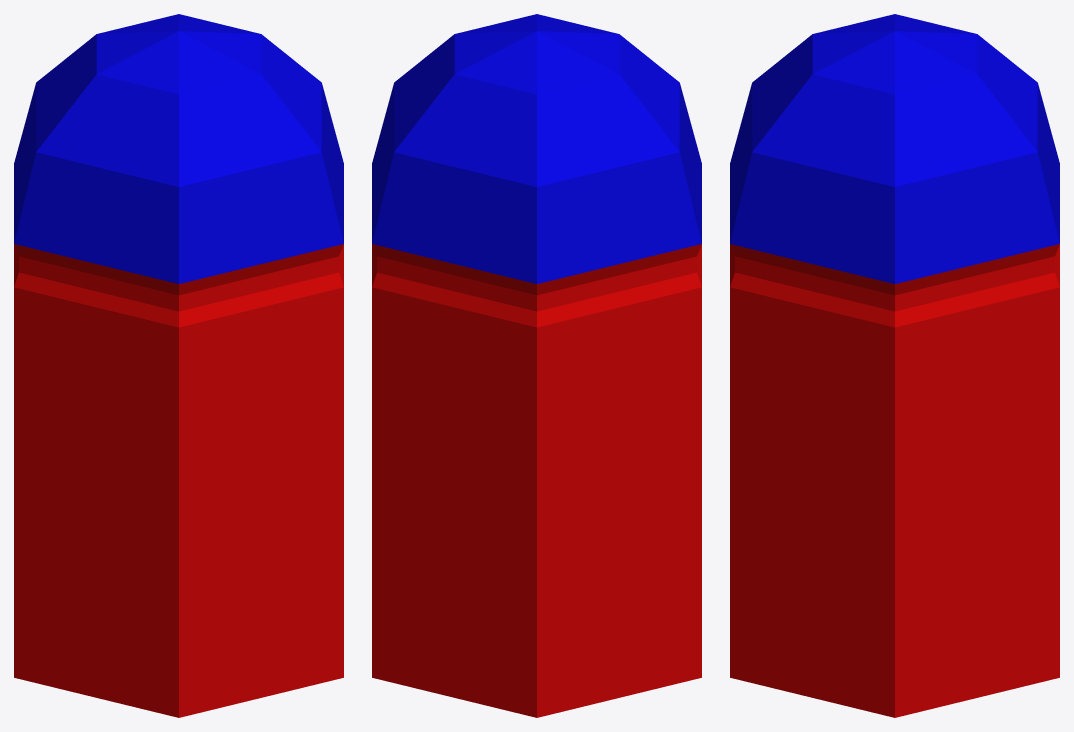
File: Mülleimer_3_low.fbx
3 renders of one model, left to right at view 1: azimuth 30°, elevation 25°; view 2: azimuth 150°, elevation 25°; view 3: azimuth 270°, elevation 25°, orthographic.
Visible parts, largest first — view 1: Mülleimer_3_low; view 2: Mülleimer_3_low; view 3: Mülleimer_3_low.
Boxes of the visible parts, x1,y1,x2,y2 form: Mülleimer_3_low: (14,14,343,717); Mülleimer_3_low: (372,14,701,717); Mülleimer_3_low: (730,14,1059,717).
Bounding box in the file's own units: 0.6089 × 1.07 × 0.5273.
